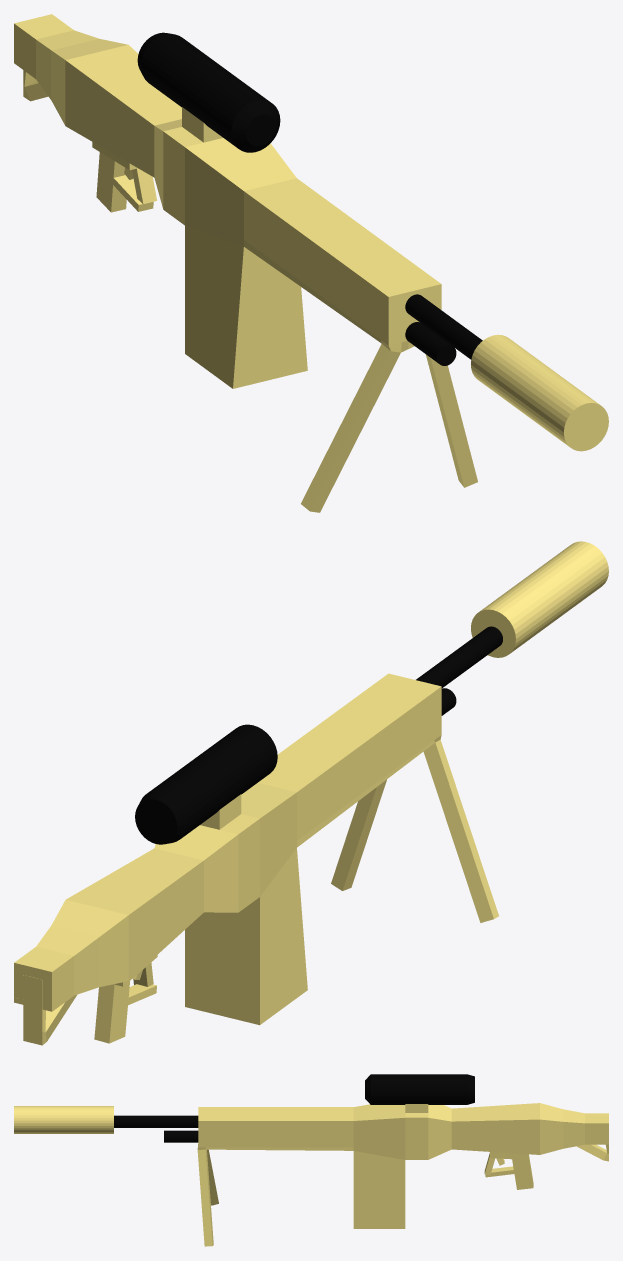
File: LMG.fbx
3 renders of one model, top to bottom at view 1: azimuth 30°, elevation 25°; view 2: azimuth 150°, elevation 25°; view 3: azimuth 270°, elevation 25°, orthographic. The views are drawn at different scales.
Parts seen in each view (by area): view 1: Cube, Cylinder, Cylinder.003, Cylinder.002, Cylinder.001; view 2: Cube, Cylinder, Cylinder.003, Cylinder.002; view 3: Cube, Cylinder, Cylinder.003, Cylinder.002, Cylinder.001.
Boxes of the visible parts, box(x1,y1,x2,y2) form: Cube: box(14, 14, 477, 512); Cylinder: box(137, 32, 280, 152); Cylinder.003: box(471, 334, 608, 451); Cylinder.002: box(405, 294, 482, 359); Cylinder.001: box(405, 322, 456, 365); Cube: box(14, 673, 498, 1045); Cylinder: box(135, 724, 277, 844); Cylinder.003: box(471, 541, 608, 657); Cylinder.002: box(416, 626, 502, 688); Cube: box(197, 1103, 608, 1246); Cylinder: box(365, 1074, 474, 1104); Cylinder.003: box(14, 1106, 113, 1133); Cylinder.002: box(114, 1115, 198, 1127); Cylinder.001: box(164, 1130, 198, 1142).
Bounding box in the file's own units: 207 × 340 × 1184.
